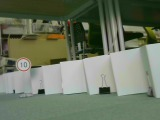speed_10: (14, 57, 32, 72)
